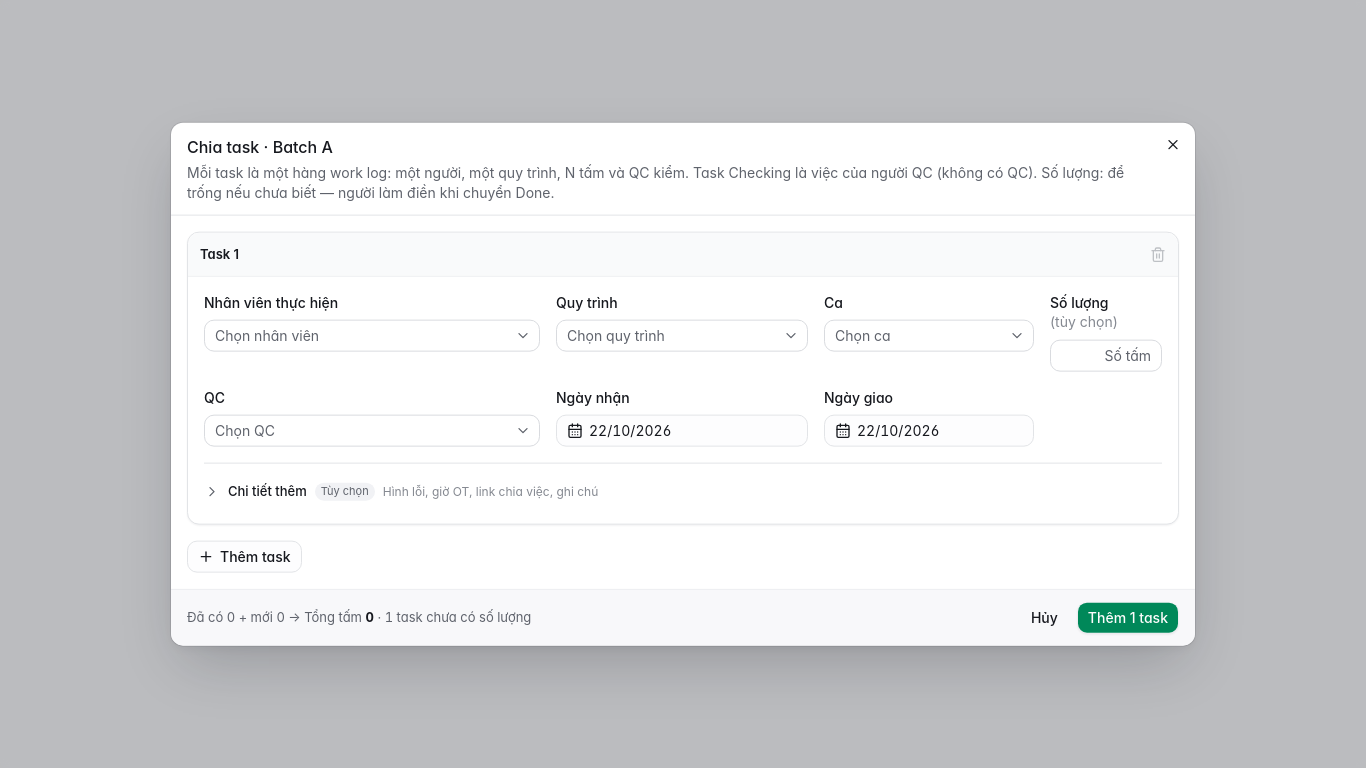
SplitTasksDialog — line cards › opening the details shows Hình lỗi, Giờ OT, Link chia việc and Ghi chú; filled, it summarises them
Click the button "Chi tiết thêm" at (267,491), box [204,475,1162,507]
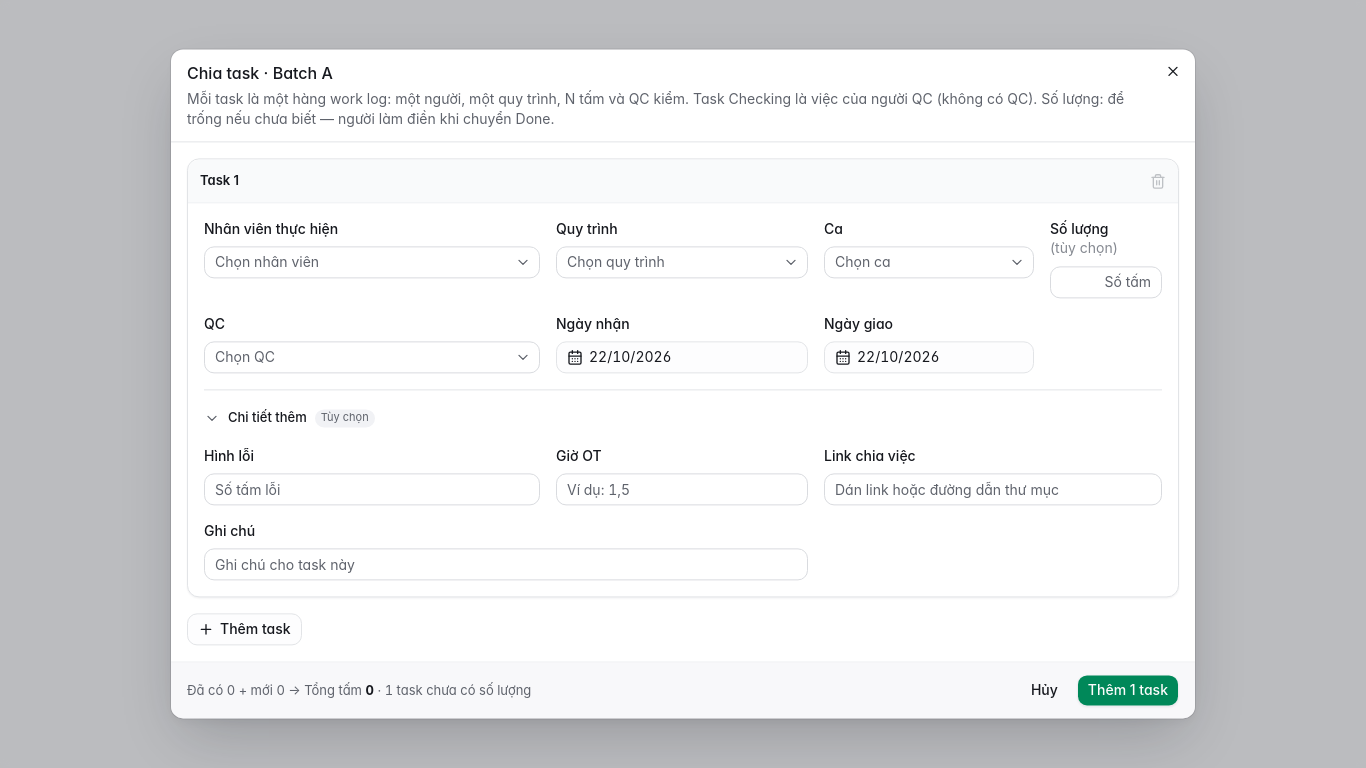
Expected: the text "Hình lỗi" is shown, [204,447,254,464]
Expected: the text "Giờ OT" is shown, [556,447,602,464]
Type "Y:\\Client\\2026\\Batch 1" into the field with placeholder "Dán link hoặc đường dẫn thư mục" at (993,489), box [824,473,1162,505]
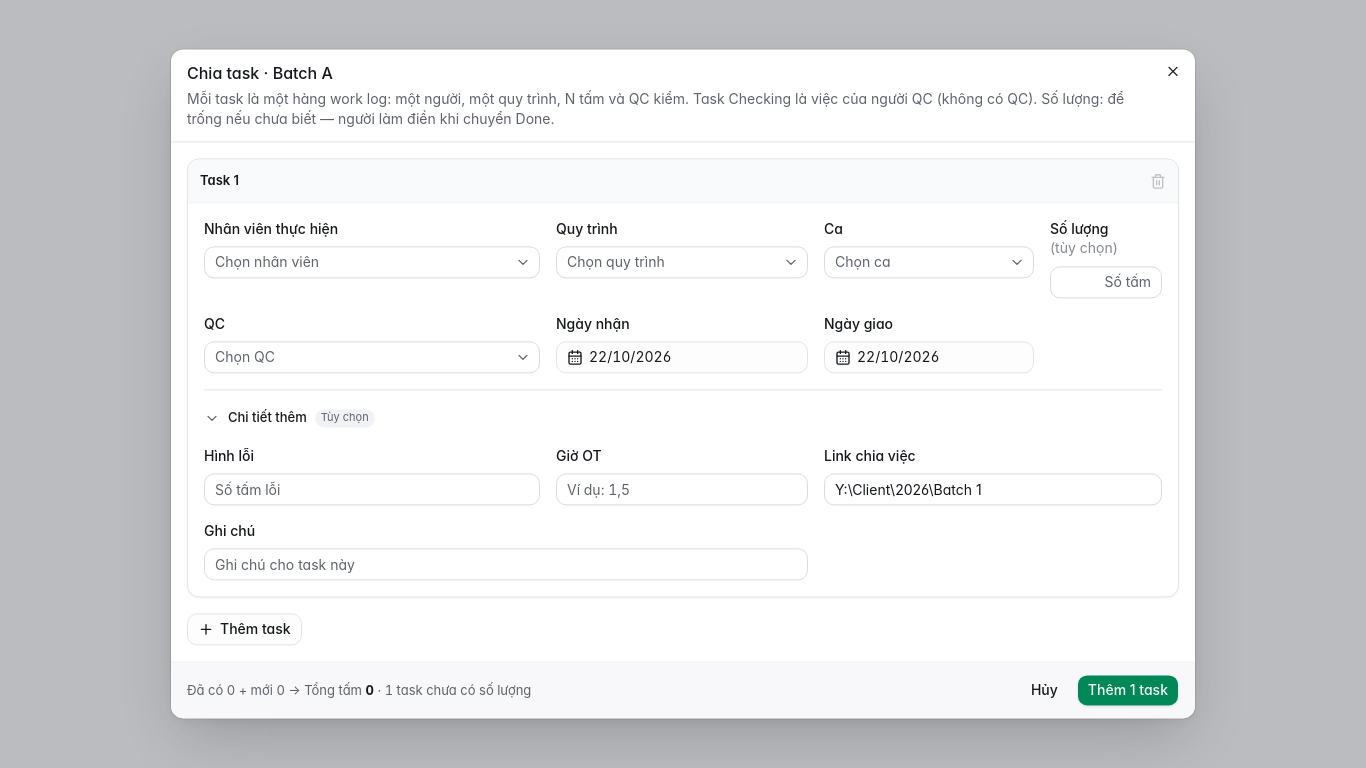
Type "x" into the field with placeholder "Ghi chú cho task này" at (506,565), box [204,549,808,581]
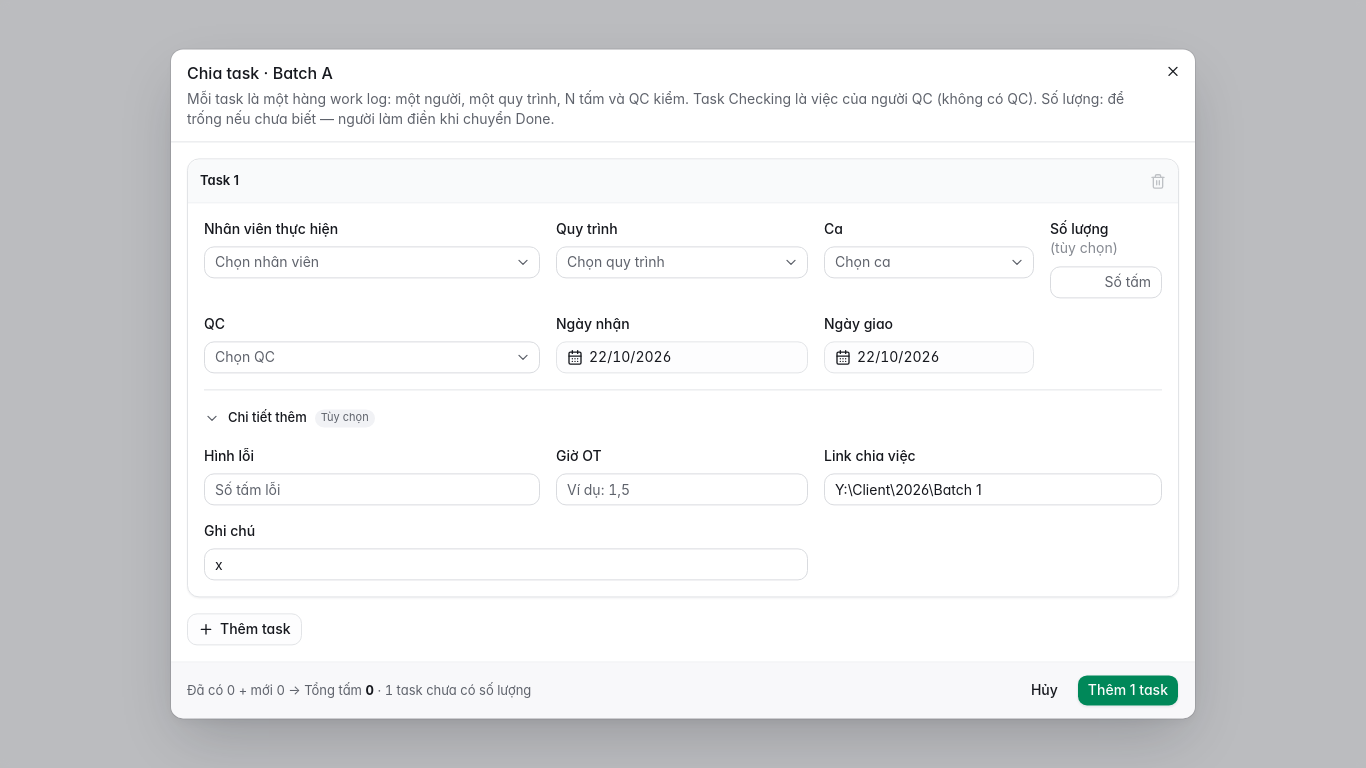
Click the button "Chi tiết thêm Tùy chọn" at (267,418), box [204,402,1162,434]
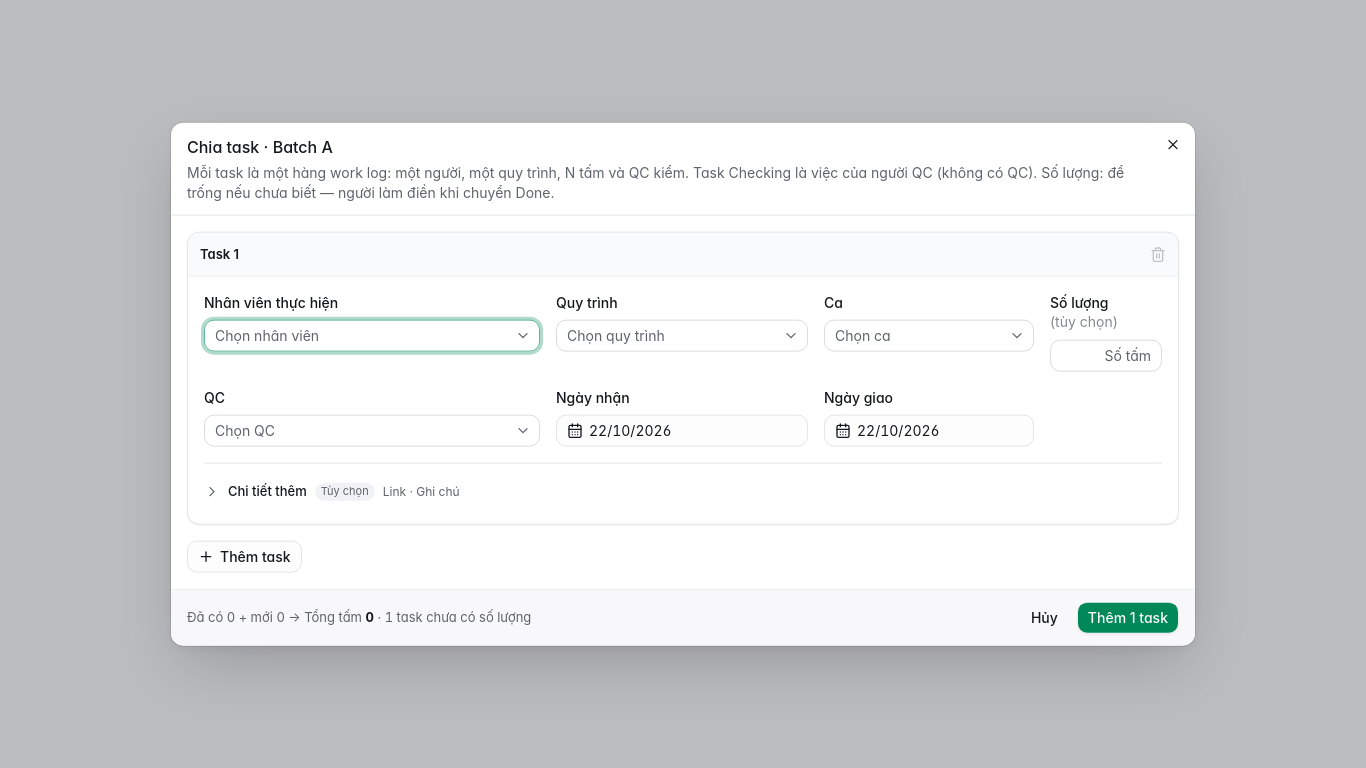
Expected: the button "Chi tiết thêm Tùy chọn Link · Ghi chú" is collapsed, [204,475,1162,507]
Expected: the button "Chi tiết thêm Tùy chọn Link · Ghi chú" is shown, [204,475,1162,507]
